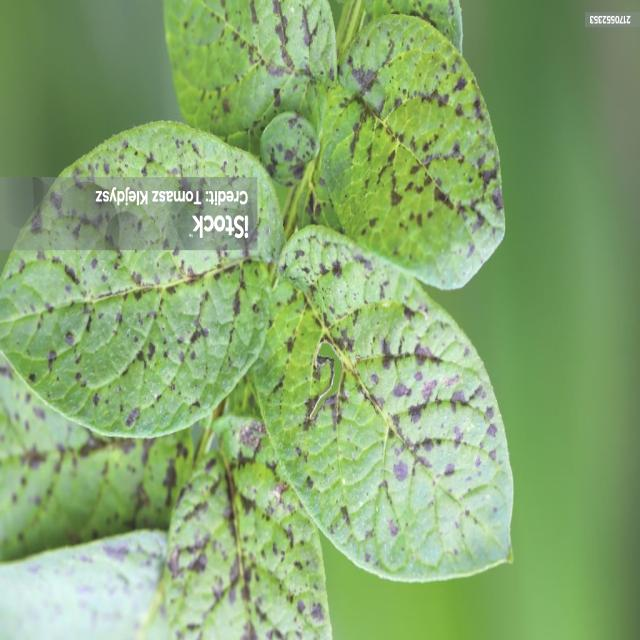leaf_spot: (252, 227, 513, 582), (1, 124, 281, 438), (316, 16, 504, 290), (1, 359, 193, 560), (166, 414, 332, 640), (166, 1, 337, 154)
